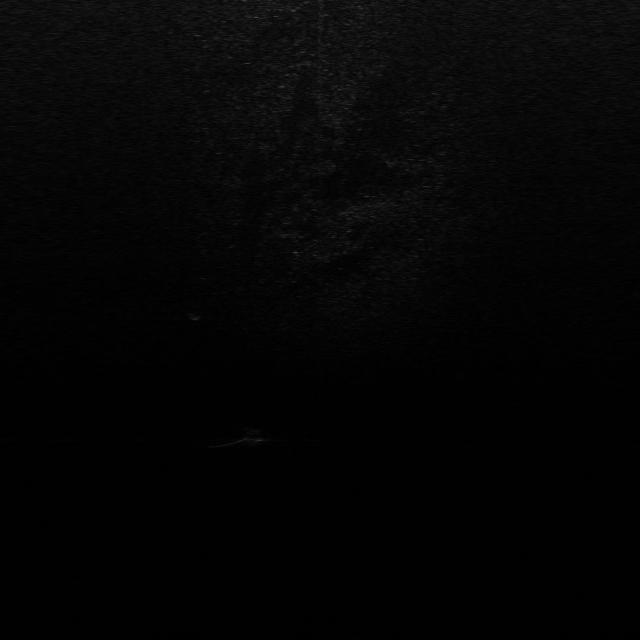ball: (232, 425, 269, 448)
circle cage: (183, 302, 213, 320)
